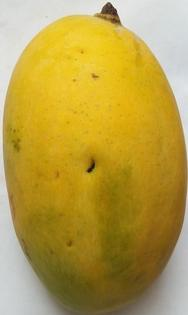PartiallyRipe: (1, 1, 188, 315)
